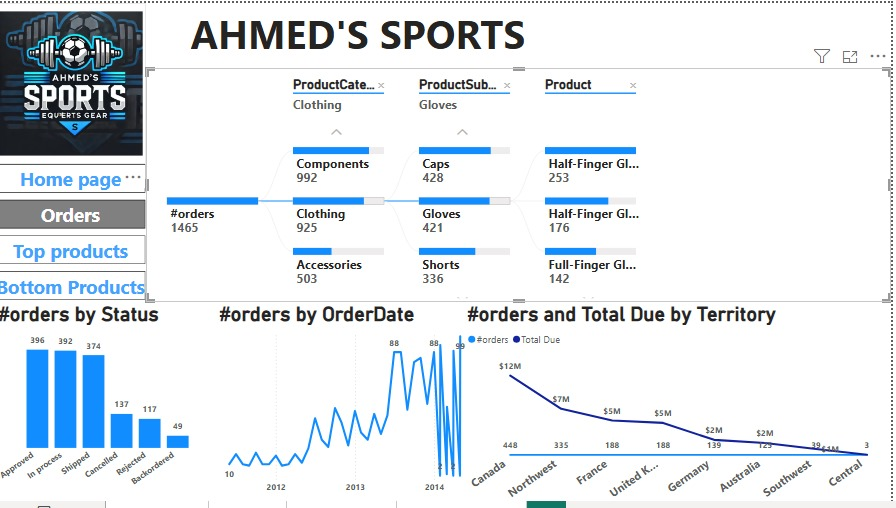

What the dashboard file says about the page in this screenshot:
{"tool":"powerbi","page":{"name":"Orders","canvas":[1280,720],"ordinal":1},"visuals":[{"type":"pageNavigator","box":[0,230,215.6,196.7],"z":0},{"type":"image","box":[0,0,215.7,230],"z":1000},{"type":"textbox","box":[273.8,0,527.5,92.5],"z":2000},{"type":"lineChart","fields":{"Y":["Dax measures.#orders"],"Category":["fact orders.OrderDate"]},"box":[315.8,426.7,367.9,282.2],"z":3000},{"type":"columnChart","fields":{"Category":["Dim status.Status"],"Y":["Dax measures.#orders"]},"box":[0,426.7,341,282.2],"z":4000},{"type":"lineChart","fields":{"Category":["DimTerritories.Territory"],"Y":["Dax measures.#orders","Dax measures.Total Due"]},"box":[670.2,426.7,609.8,294],"z":5000},{"type":"decompositionTreeVisual","fields":{"ExplainBy":["Dim products.Product Hierarchy.ProductCategory","Dim products.Product Hierarchy.ProductSubCategory","Dim products.Product Hierarchy.Product"],"Analyze":["Dax measures.#orders"]},"box":[215,92.4,1065,334.3],"z":6000}]}

Visuals, with their boxes on the page's 1280x720 design canvas (x1, y1, x2, y2). These are canvas units, not pixel positions in the 896x508 screenshot, which may show the page scaled, cropped or inside an application window:
pageNavigator: bbox=(0, 230, 216, 427)
image: bbox=(0, 0, 216, 230)
textbox: bbox=(274, 0, 801, 92)
lineChart - Dax measures.#orders x fact orders.OrderDate: bbox=(316, 427, 684, 709)
columnChart - Dim status.Status x Dax measures.#orders: bbox=(0, 427, 341, 709)
lineChart - DimTerritories.Territory x Dax measures.#orders: bbox=(670, 427, 1280, 721)
decompositionTreeVisual - Dim products.Product Hierarchy.ProductCategory x Dim products.Product Hierarchy.ProductSubCategory: bbox=(215, 92, 1280, 427)
